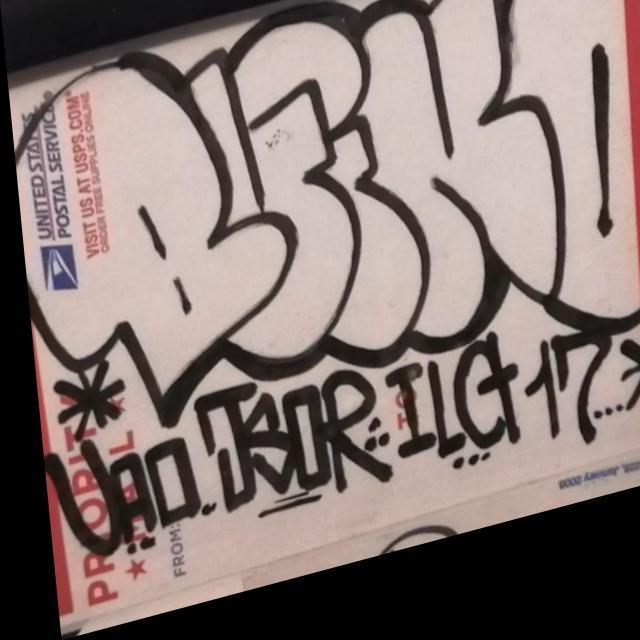-: (5, 0, 640, 479), (31, 272, 640, 598)
